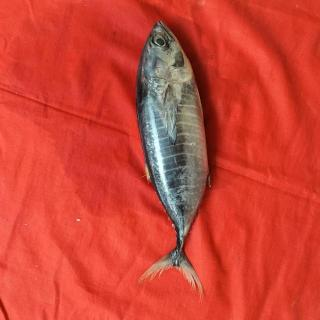Ikan: (131, 14, 221, 302)
